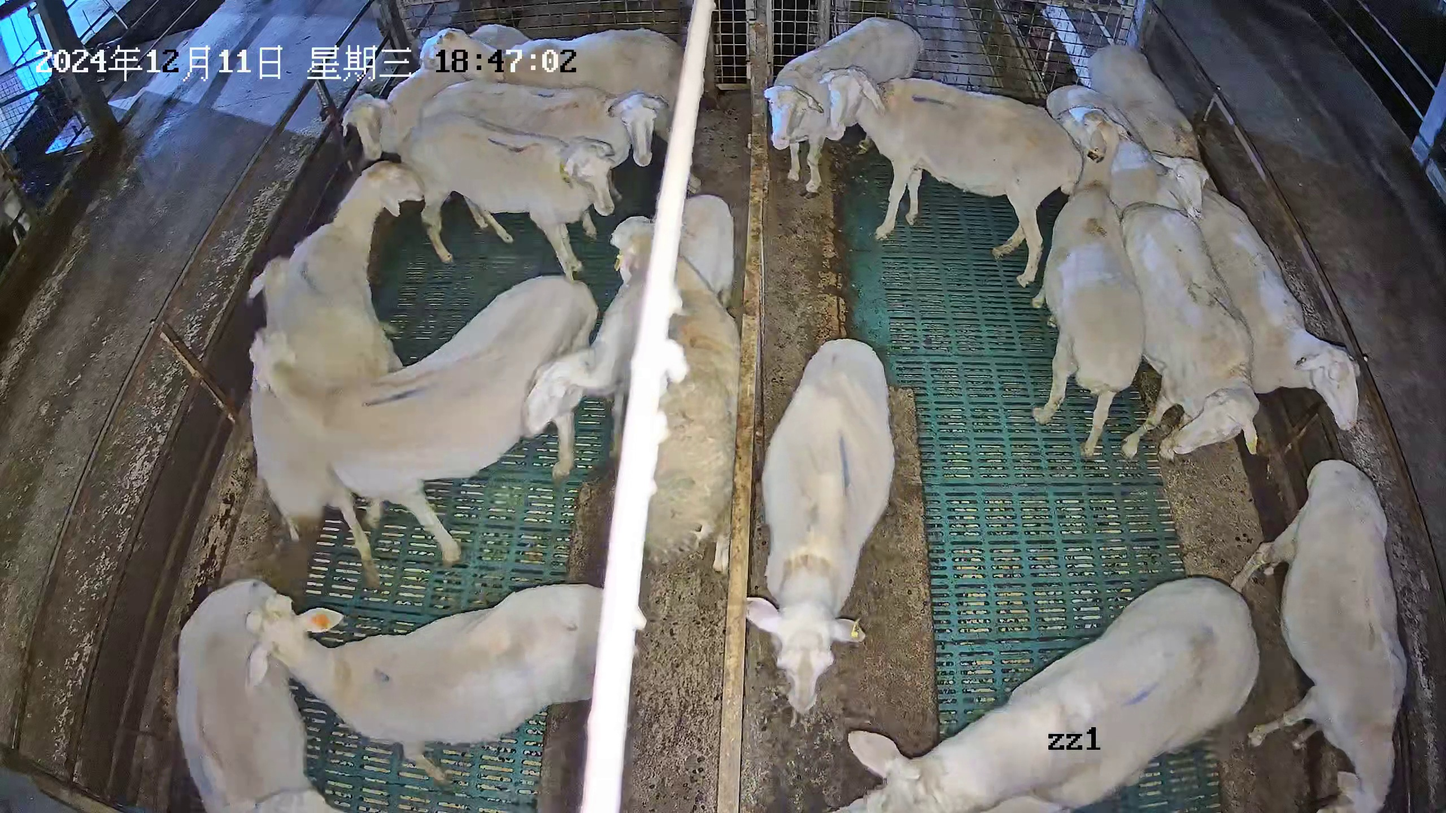Smounting: (829, 573, 1262, 813)
mounted: (833, 790, 1082, 813)
